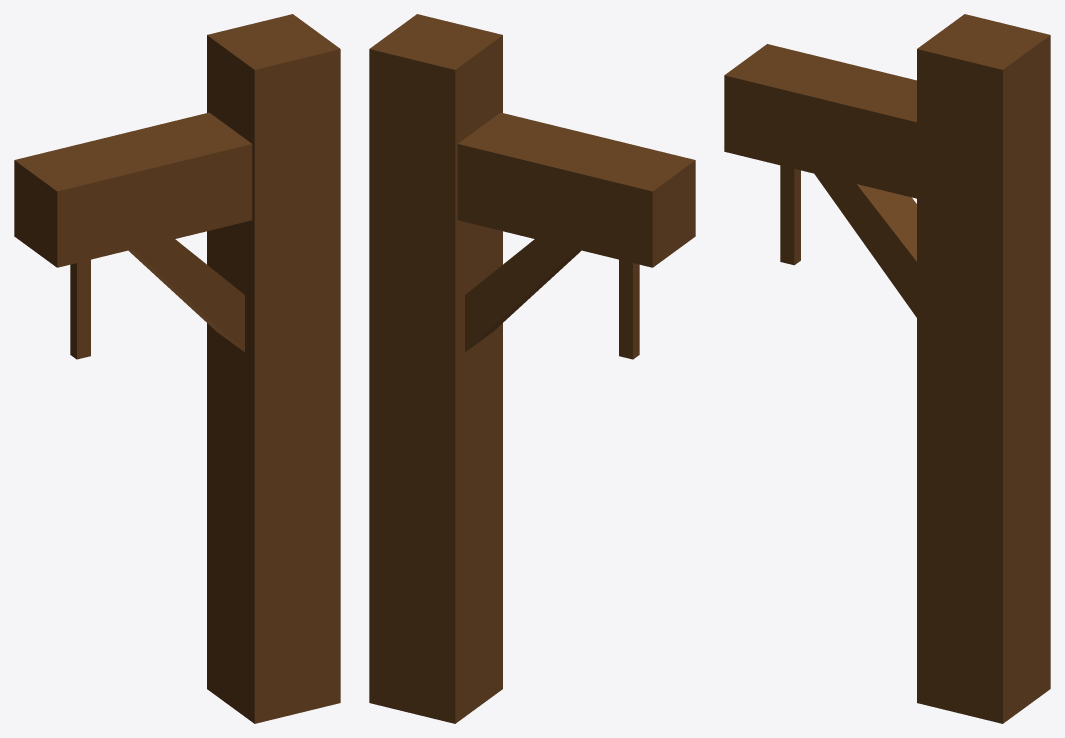
Rendered from poteau lampe.fbx.
The picture shows the model from 3 angles, left to right: view 1: azimuth 30°, elevation 25°; view 2: azimuth 150°, elevation 25°; view 3: azimuth 330°, elevation 25°; orthographic projection.
Visible parts, largest first — view 1: polySurface703; view 2: polySurface703; view 3: polySurface703.
Part boxes in pixels (box(x1,y1,x2,y2)): polySurface703: box(14, 14, 340, 723); polySurface703: box(369, 14, 695, 723); polySurface703: box(724, 14, 1050, 723).
Size of the model in its own units: 49.13 by 109 by 14.49.
